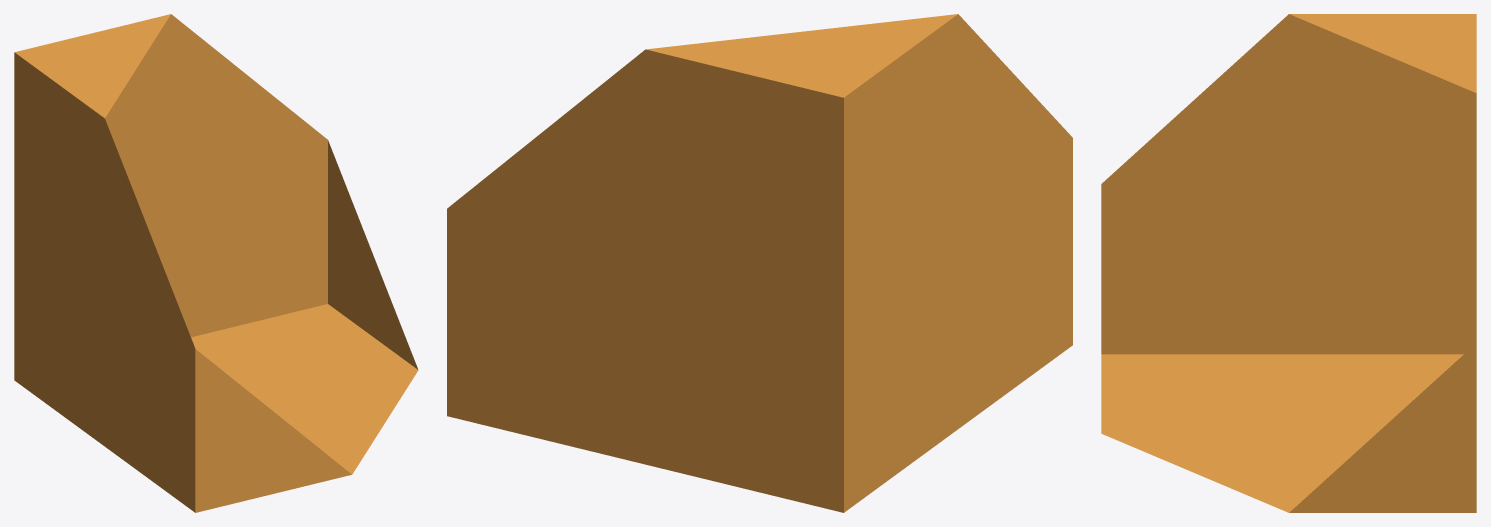
Rendered from r5c7_body_orange.gltf.
The picture shows the model from 3 angles, left to right: view 1: azimuth 30°, elevation 25°; view 2: azimuth 150°, elevation 25°; view 3: azimuth 270°, elevation 25°; orthographic projection. The views are drawn at different scales.
Visible parts, largest first — view 1: r5c7_body_orange; view 2: r5c7_body_orange; view 3: r5c7_body_orange.
Boxes of the visible parts, bbox=[...] form: r5c7_body_orange: bbox=[14, 14, 418, 512]; r5c7_body_orange: bbox=[447, 14, 1072, 512]; r5c7_body_orange: bbox=[1101, 14, 1476, 512].
Size of the model in its own units: 2 by 2 by 2.
1 material, 1 textured.
